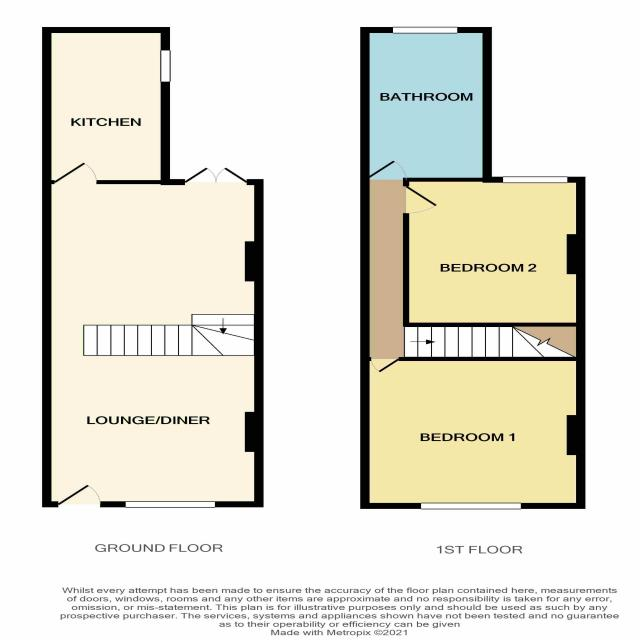DOOR: (402, 185, 440, 215), (53, 161, 99, 184), (57, 483, 101, 507), (364, 159, 408, 181), (370, 357, 401, 374)
DOUBLE DOOR: (183, 166, 249, 185)
ROOM: (360, 356, 586, 508), (402, 176, 586, 327), (39, 24, 173, 187)
WINDOW: (420, 502, 522, 510), (124, 501, 216, 508), (391, 26, 459, 34), (502, 176, 569, 184), (160, 49, 171, 82)
